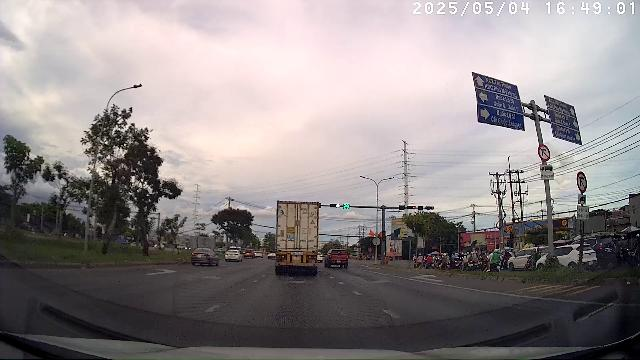123b-cam-re-phai: (576, 171, 587, 193), (537, 144, 551, 161)
